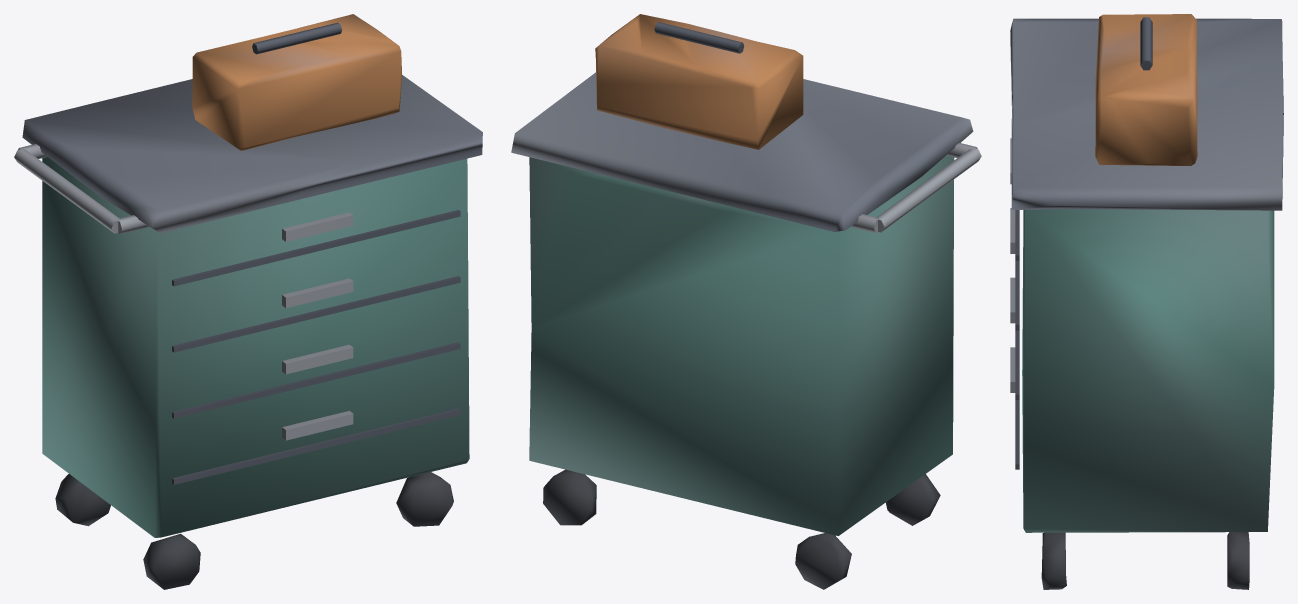
The model's file is bay_cart.glb.
3 renders of one model, left to right at view 1: azimuth 30°, elevation 25°; view 2: azimuth 150°, elevation 25°; view 3: azimuth 270°, elevation 25°, orthographic. The views are drawn at different scales.
Visible parts, largest first — view 1: cart; view 2: cart; view 3: cart.
Boxes of the visible parts, x1=… form: cart: x1=14, y1=14, x2=482, y2=589; cart: x1=511, y1=14, x2=981, y2=589; cart: x1=1010, y1=14, x2=1283, y2=589.
Bounding box in the file's own units: 0.856 × 1.09 × 0.5345.
